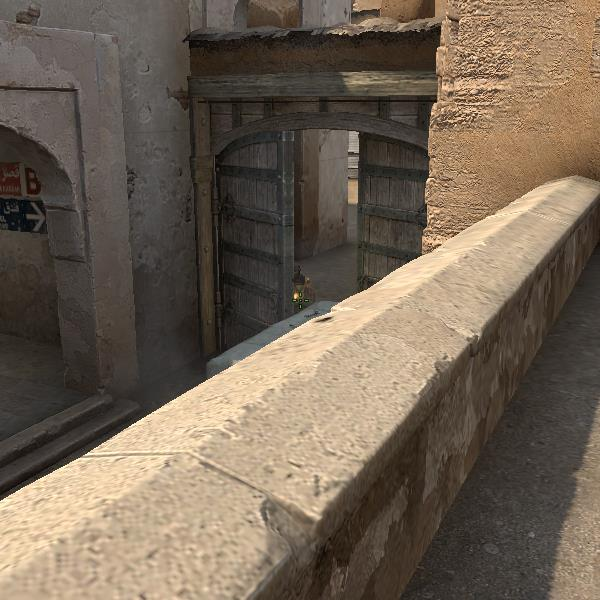t_body: (284, 274, 322, 309)
t_head: (291, 275, 310, 294)
